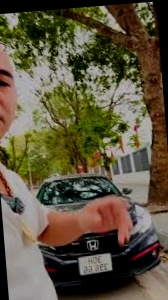Bien-so: (73, 245, 108, 266)
